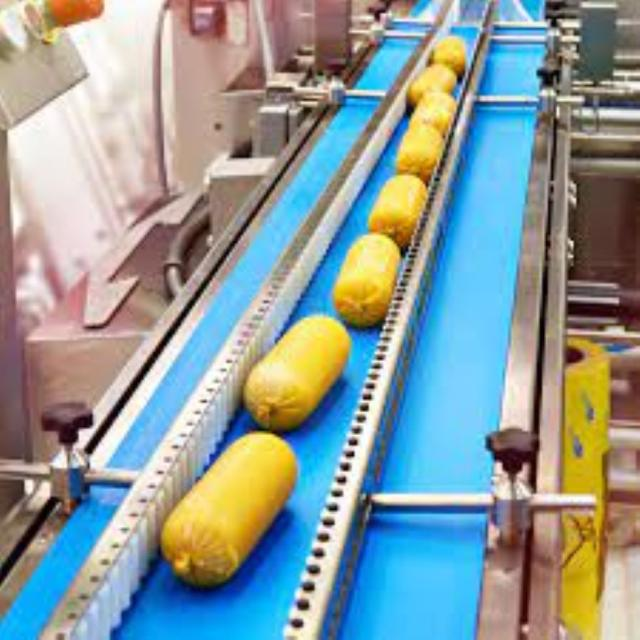food: (158, 428, 299, 590), (241, 313, 353, 432), (326, 232, 408, 333)
